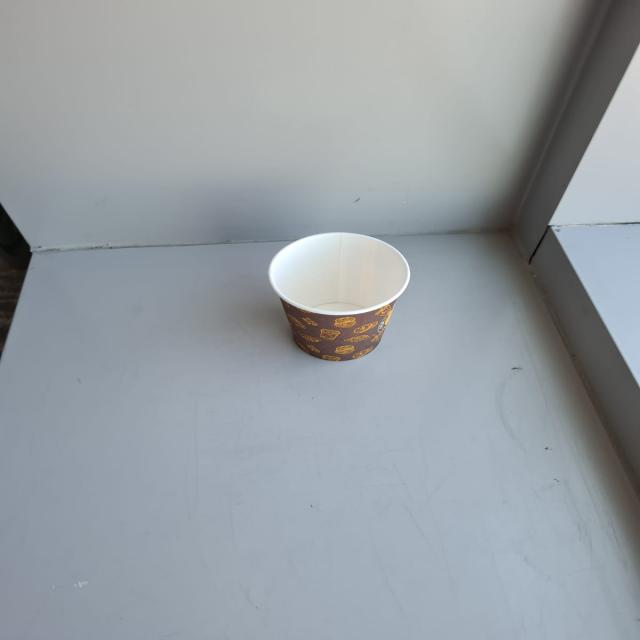cups: (264, 232, 413, 360)
